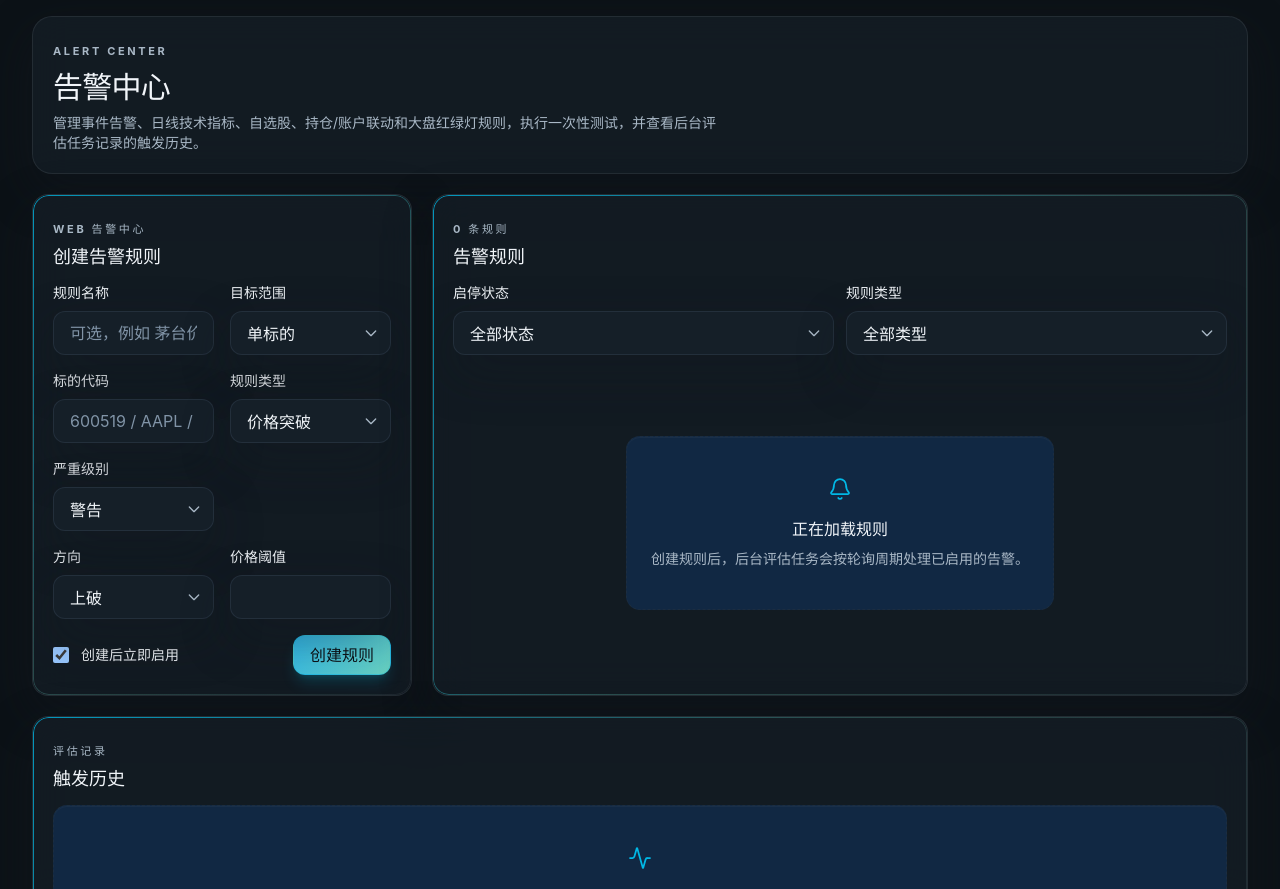
Test: AlertsPage › keeps the latest rules response when filter requests resolve out of order
This screenshot has width=1280, height=889.
Select "已停用" in the dropdown labelled "启停状态": (644, 333) [453,311,834,355]
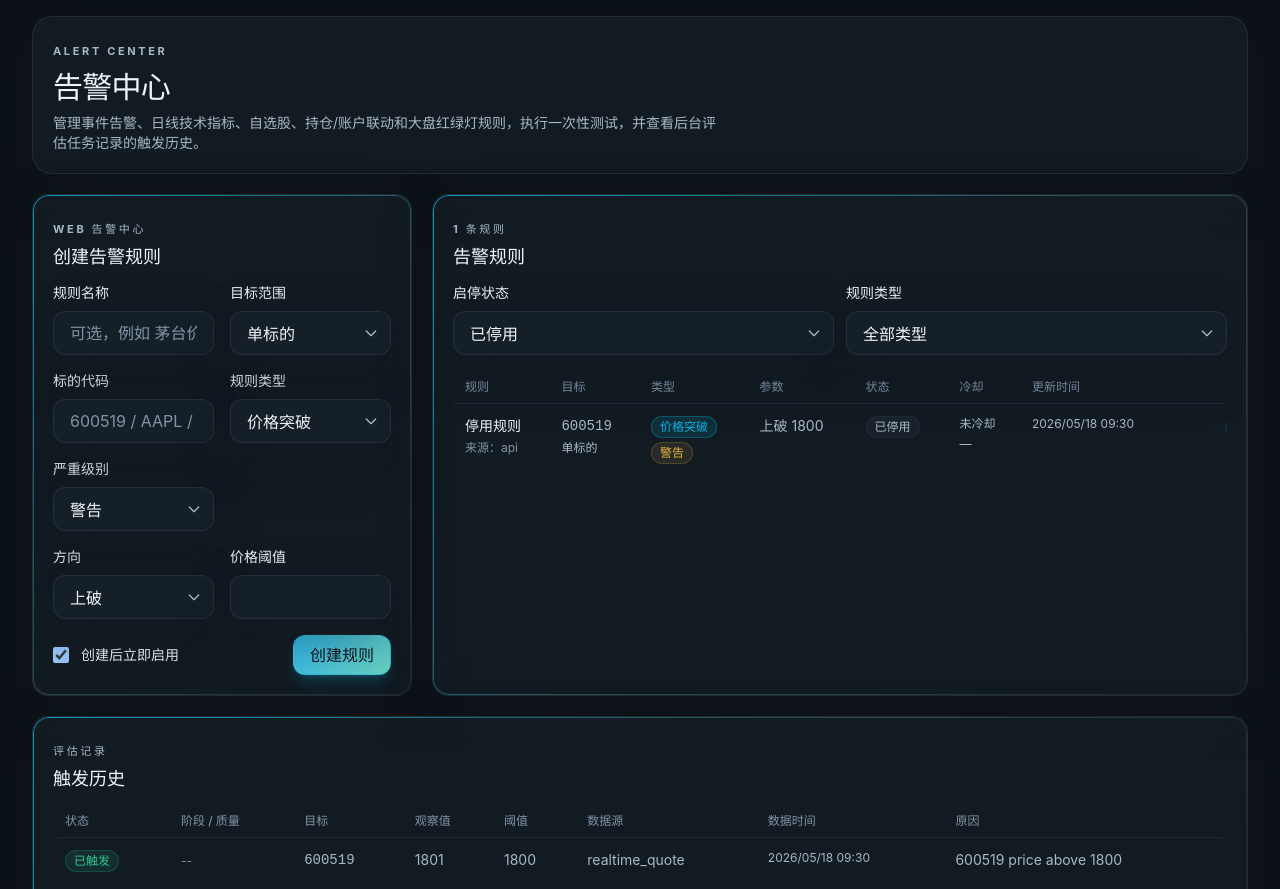
Result: the text "停用规则" is shown at [465,417,521,434]
